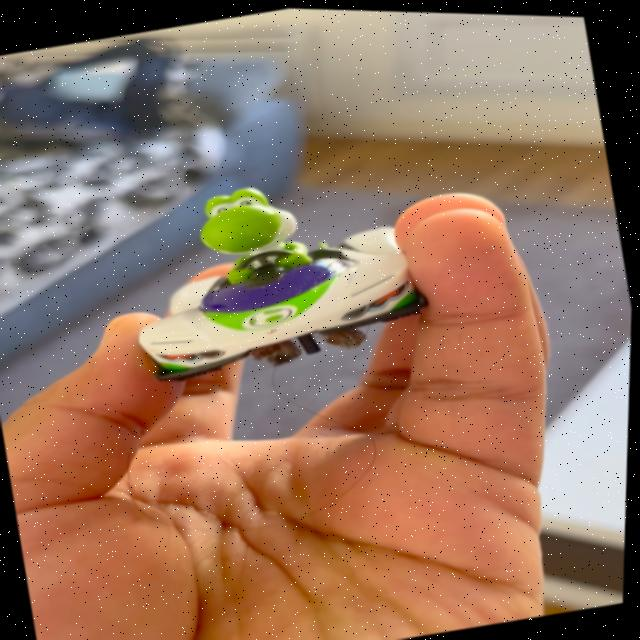yoshi: (87, 134, 449, 397)
